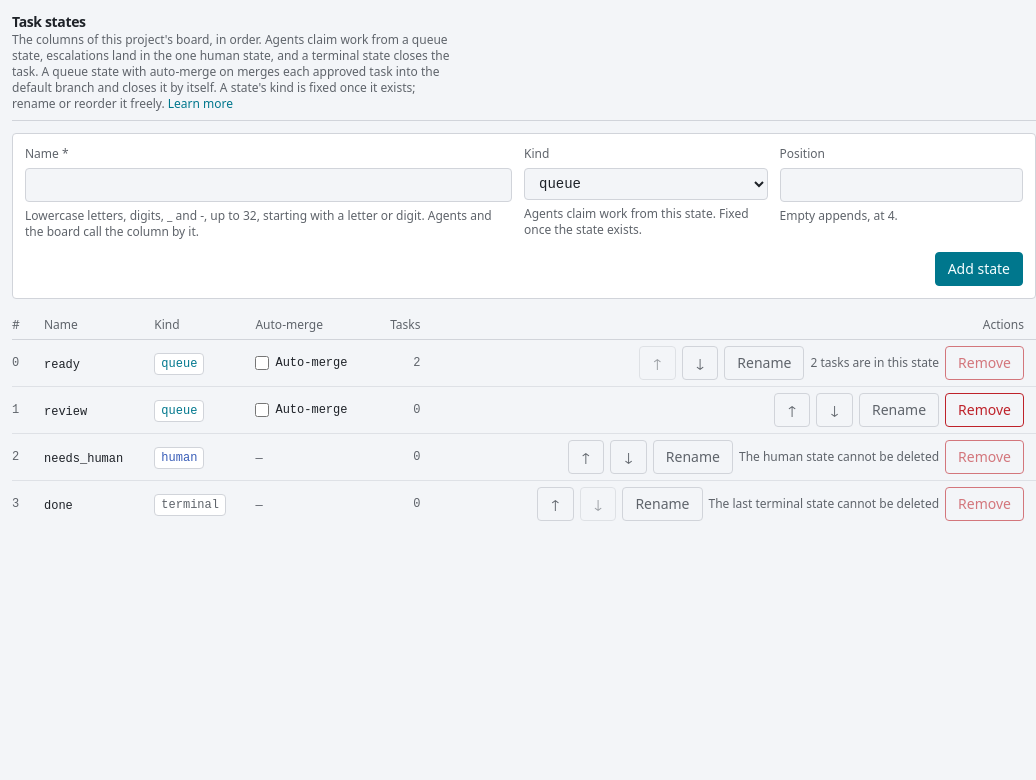
TaskStatesEditor › takes the rename's refusal with it when the rename is cancelled
Click the button "Rename" in the row of "review". click: [899, 410]
box: [859,393,939,427]
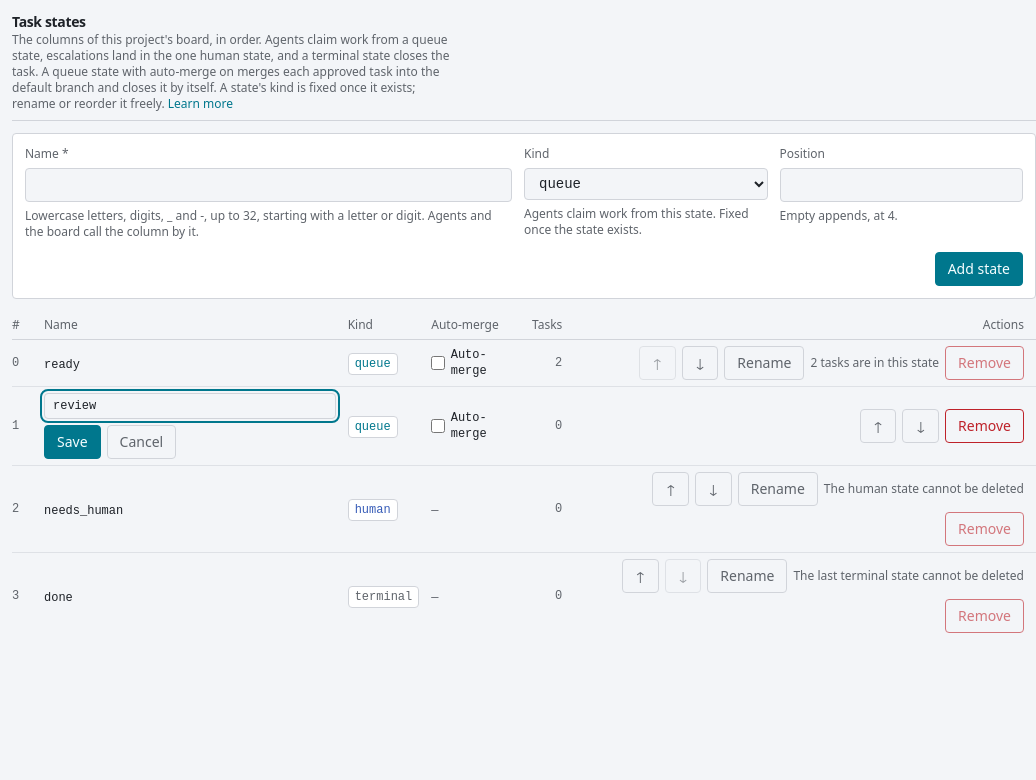
Replace the text in the field named "New name" with "ready". click: [190, 406]
box: [44,393,336,419]
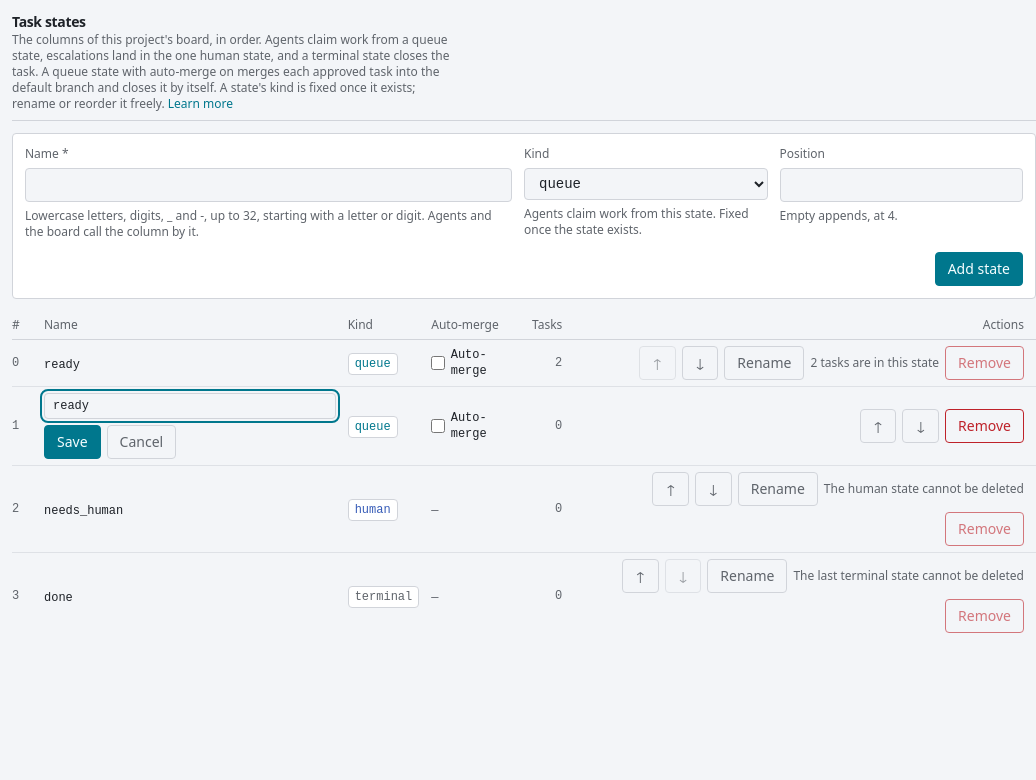
Click the button "Save". click: [72, 442]
box: [44,425,101,459]
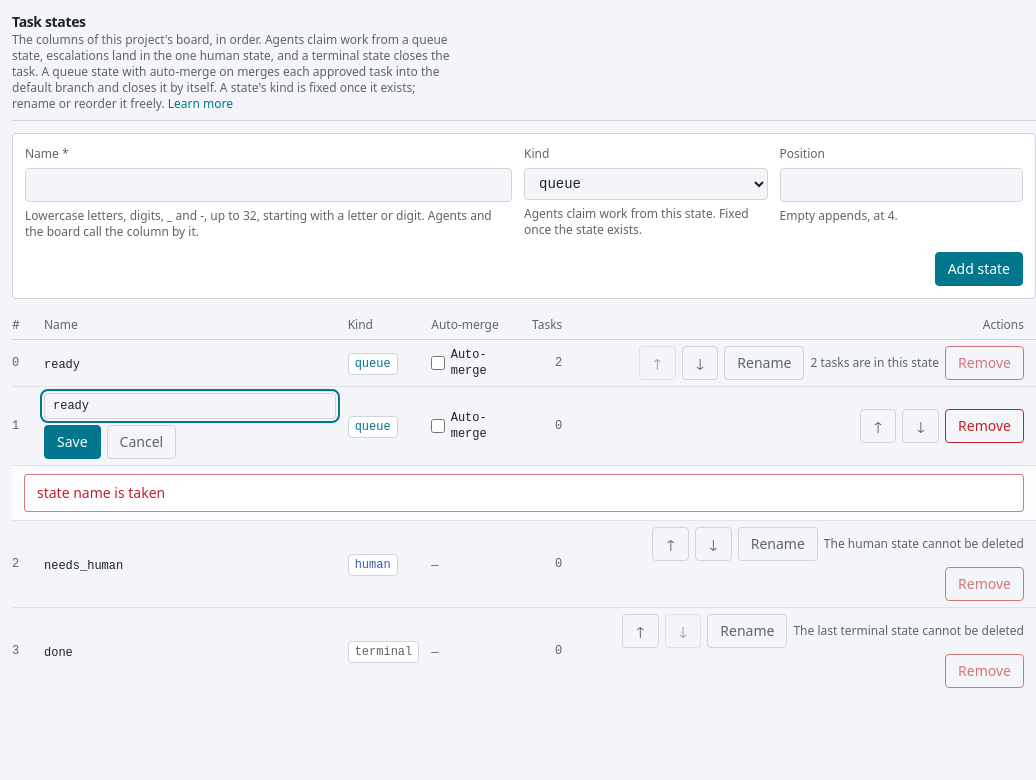
Now the text "state name is taken" is shown, box [37,483,165,502]
Click the button "Cancel". click: [141, 442]
box: [107,425,176,459]
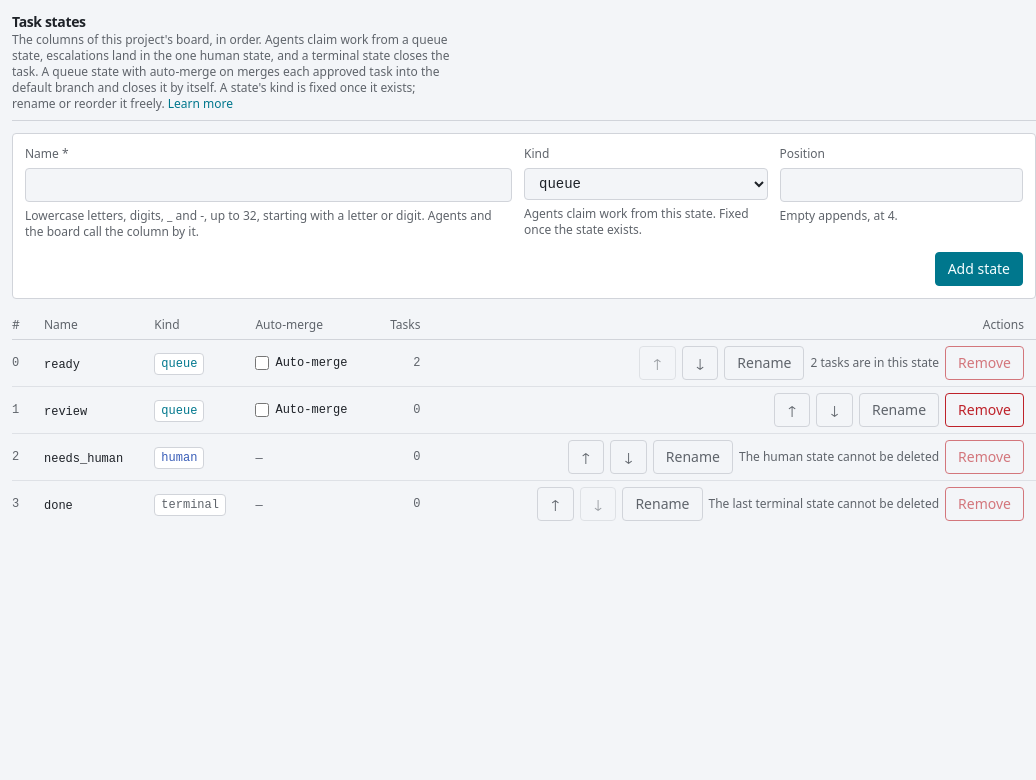
Now the text "state name is taken" is gone
